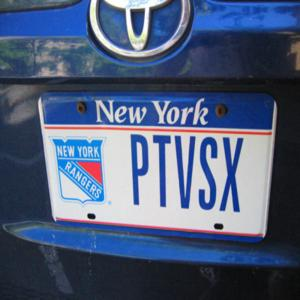Vehicle-registration-plate: (38, 92, 278, 244)
